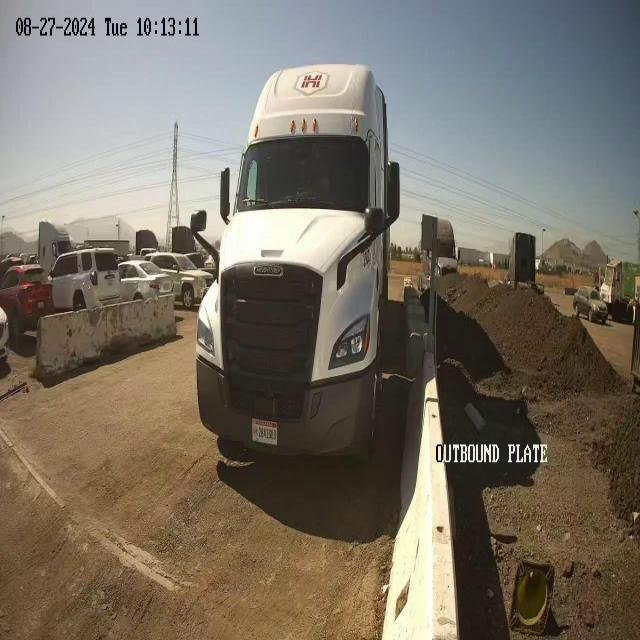TRUCK_OUT: (192, 62, 406, 467)
